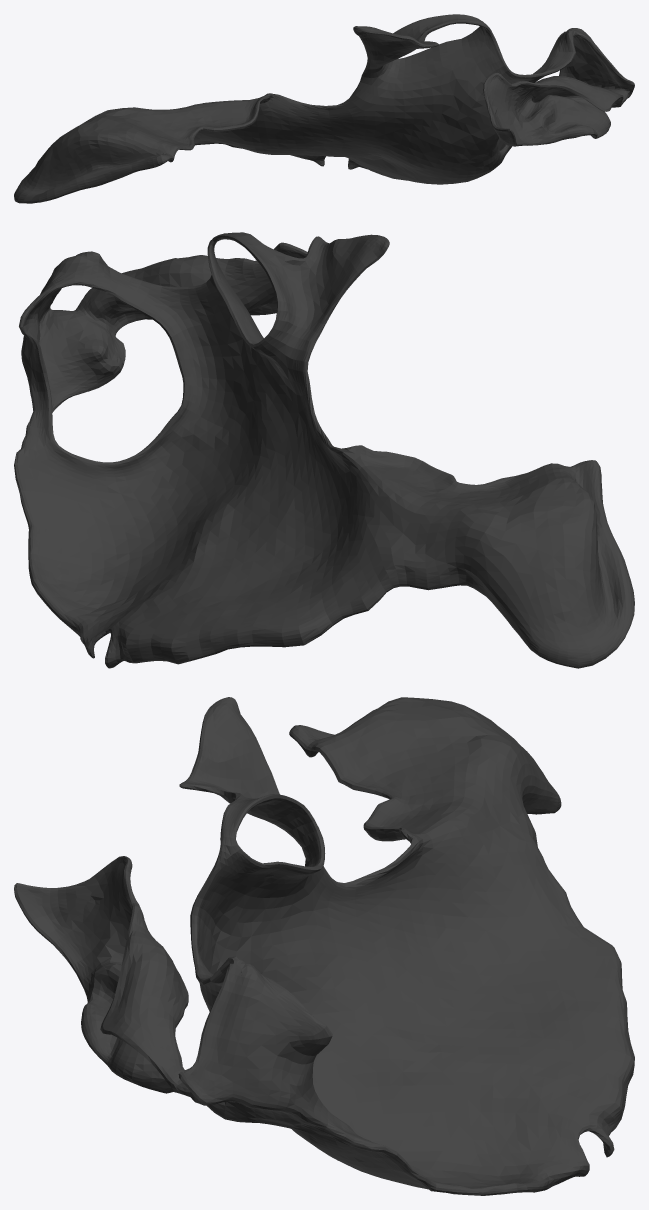
The model's file is Epitympanic_recess_L.glb.
3 views of the same model, one above another, from view 1: azimuth 30°, elevation 25°; view 2: azimuth 150°, elevation 25°; view 3: azimuth 270°, elevation 25° (orthographic). The views are drawn at different scales.
Parts seen in each view (by area): view 1: Epitympanic_recess_L; view 2: Epitympanic_recess_L; view 3: Epitympanic_recess_L.
Boxes of the visible parts, x1,y1,x2,y2 form: Epitympanic_recess_L: [14, 14, 634, 203]; Epitympanic_recess_L: [14, 232, 634, 668]; Epitympanic_recess_L: [14, 697, 634, 1195].
Size of the model in its own units: 4.73 by 2.17 by 3.08.
1 material, 1 textured.
